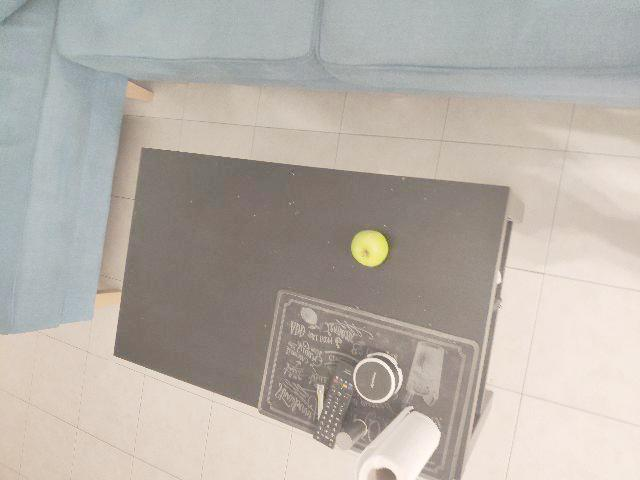apple: (193, 331, 278, 446)
